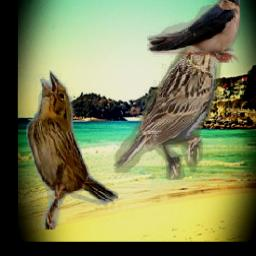Sparrow: (114, 31, 223, 180), (27, 71, 119, 231)
Swallow: (147, 0, 240, 64)
